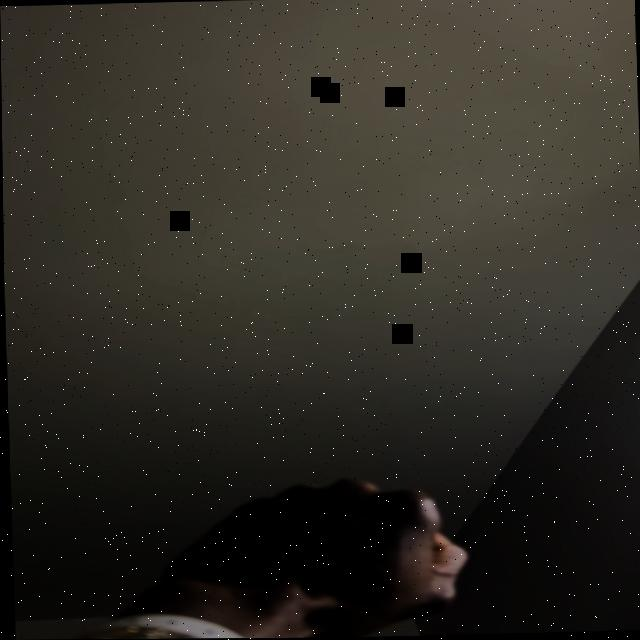Rock: (149, 471, 470, 639)
